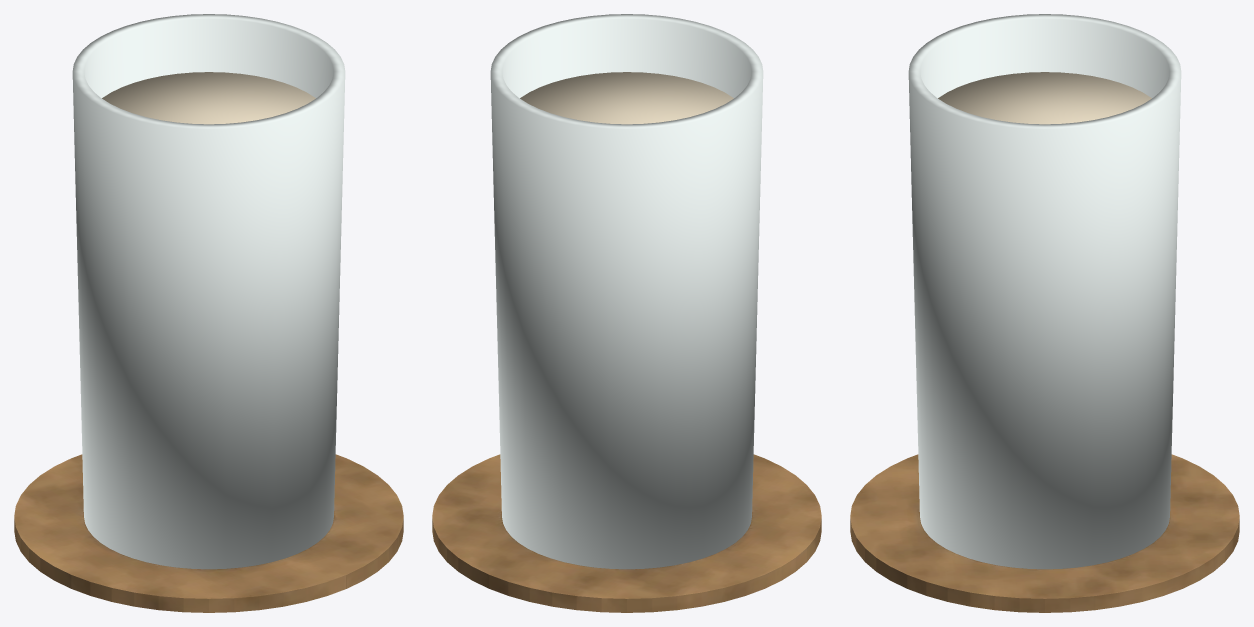
Rendered from latte-glass.glb.
3 renders of one model, left to right at view 1: azimuth 30°, elevation 25°; view 2: azimuth 150°, elevation 25°; view 3: azimuth 270°, elevation 25°, orthographic.
Parts seen in each view (by area): view 1: glass_clear, cork, milk_foam; view 2: glass_clear, cork, milk_foam; view 3: glass_clear, cork, milk_foam.
Boxes of the visible parts, left/top/right/bottom form: glass_clear: left=72, top=14, right=345, bottom=569; cork: left=14, top=454, right=403, bottom=612; milk_foam: left=102, top=72, right=315, bottom=124; glass_clear: left=490, top=14, right=763, bottom=569; cork: left=432, top=454, right=821, bottom=612; milk_foam: left=520, top=72, right=733, bottom=124; glass_clear: left=908, top=14, right=1181, bottom=569; cork: left=850, top=454, right=1239, bottom=612; milk_foam: left=938, top=72, right=1151, bottom=124.
Bounding box in the file's own units: 0.1 × 0.13 × 0.1.
4 materials, 1 textured.
